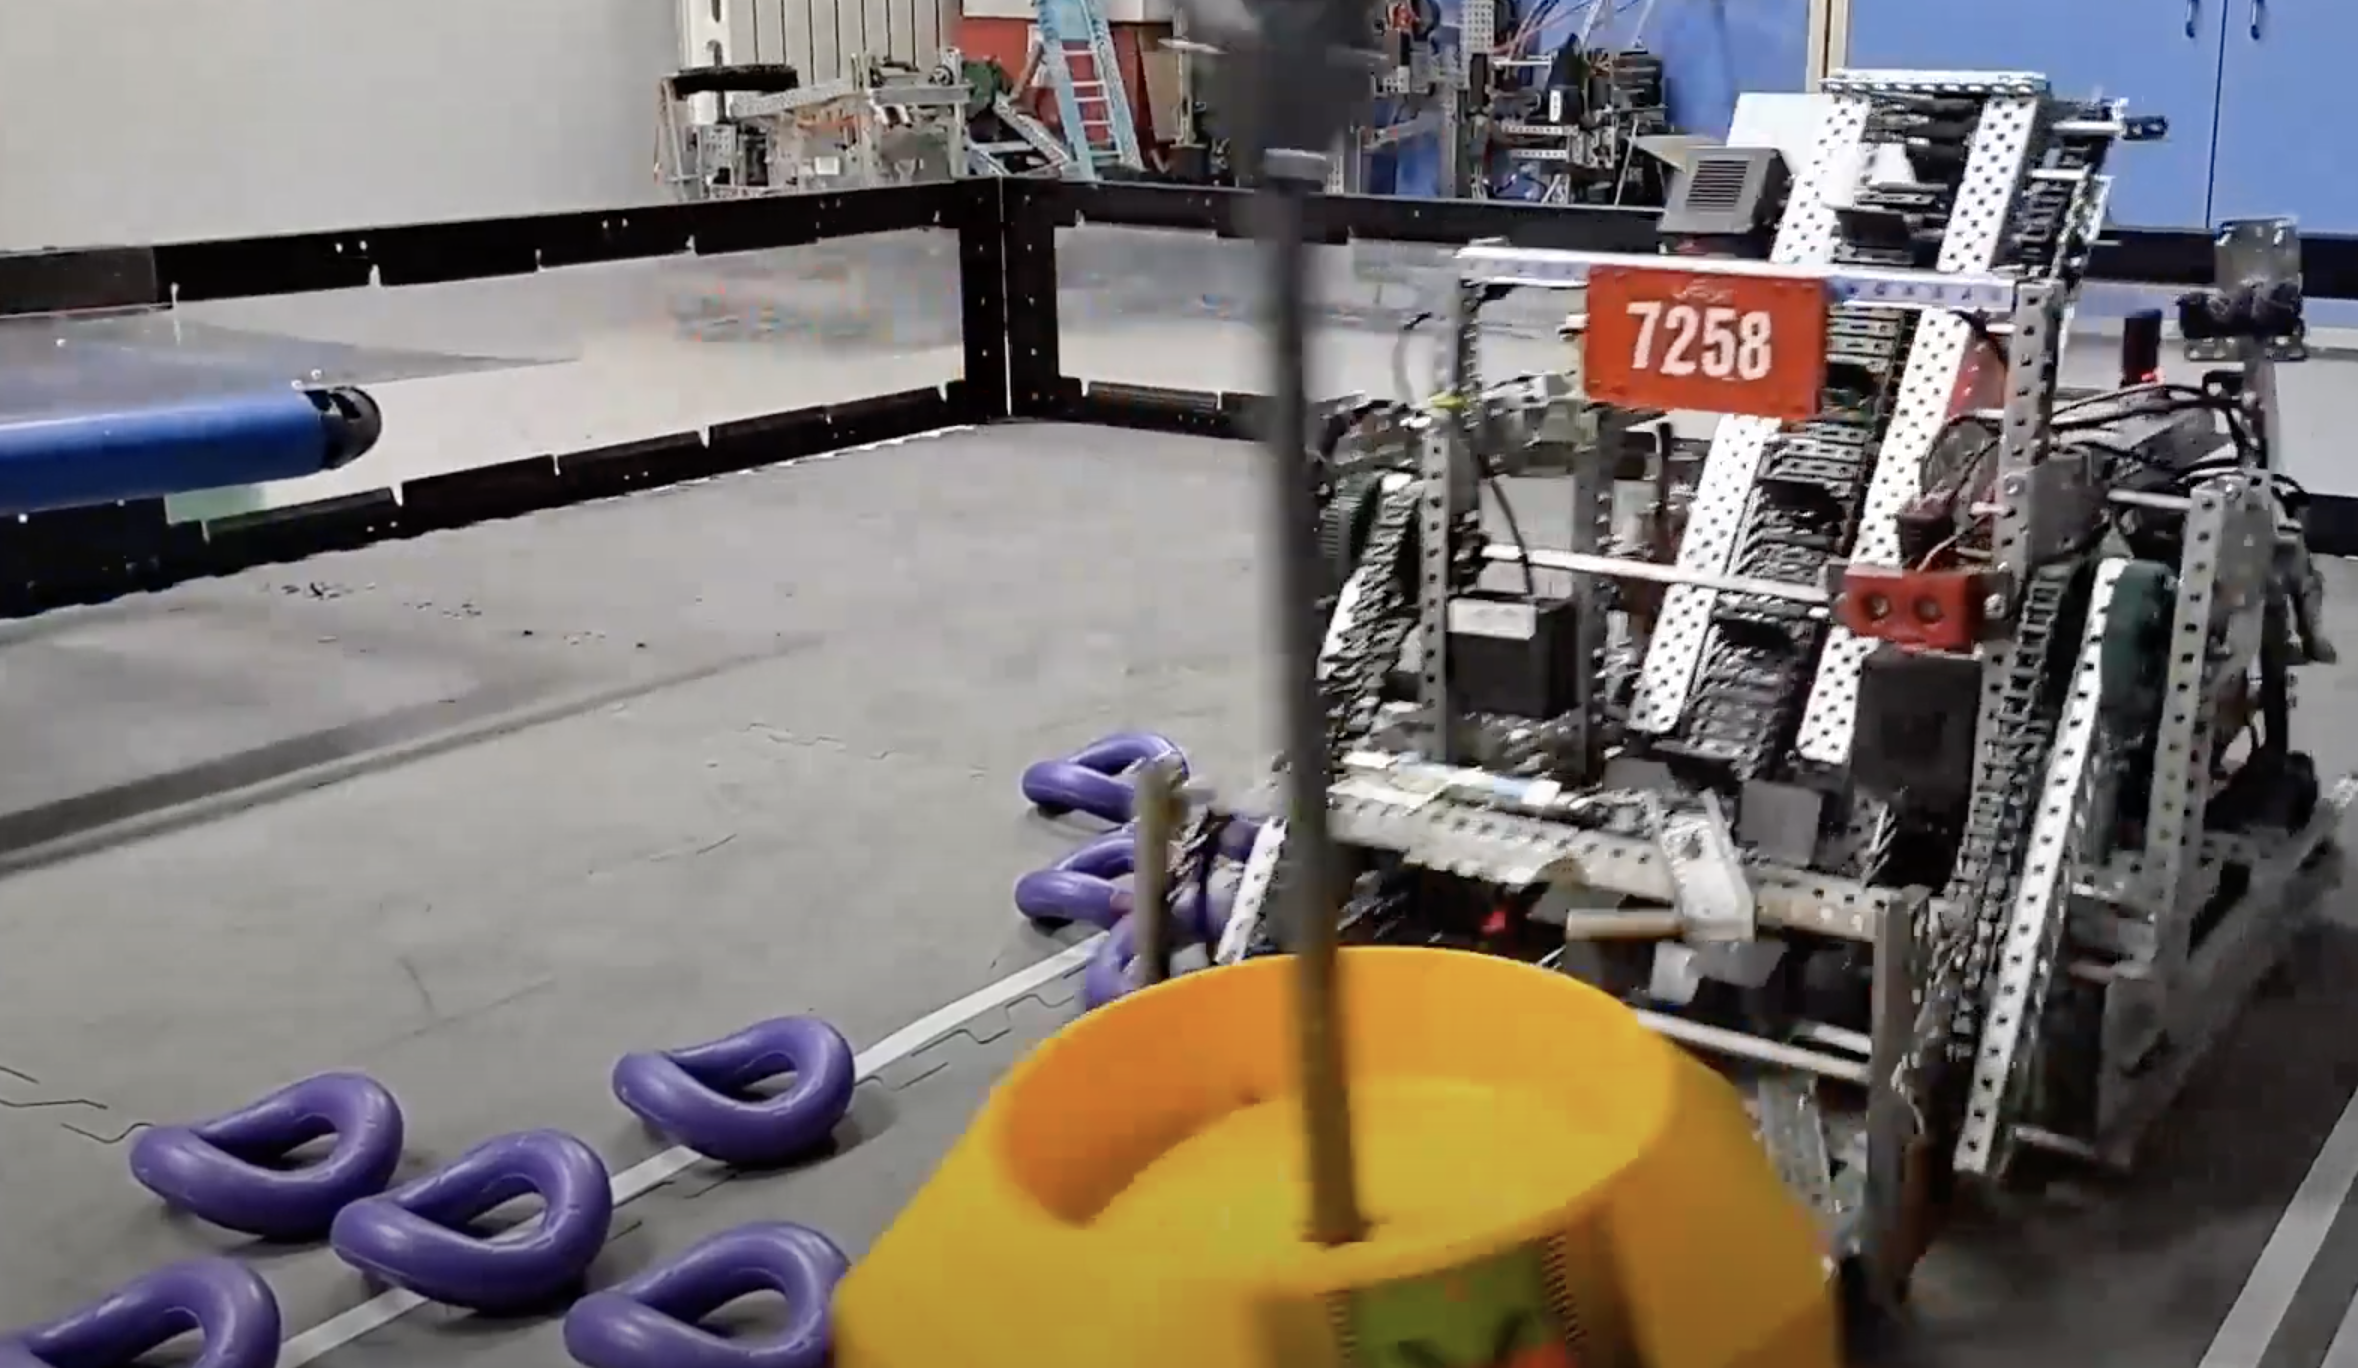ring: (331, 1125, 612, 1308), (127, 1072, 404, 1239), (565, 1223, 853, 1368), (611, 1011, 861, 1161), (2, 1252, 278, 1368), (1015, 832, 1182, 923), (1023, 730, 1190, 814), (1089, 922, 1215, 997)
